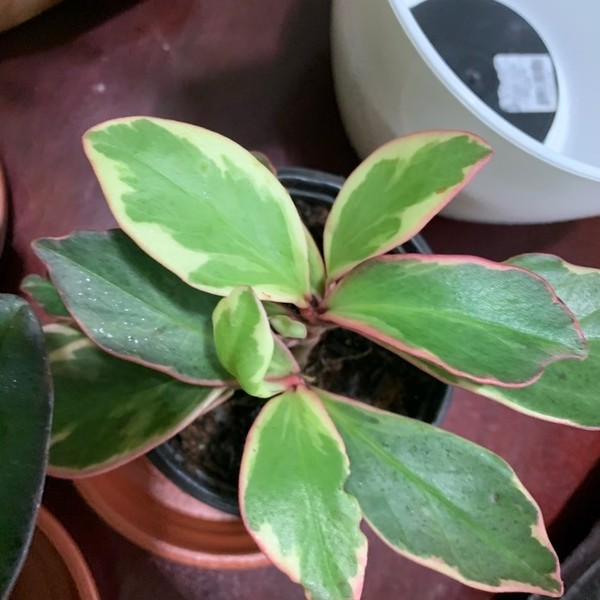obstacle: (33, 100, 594, 571)
